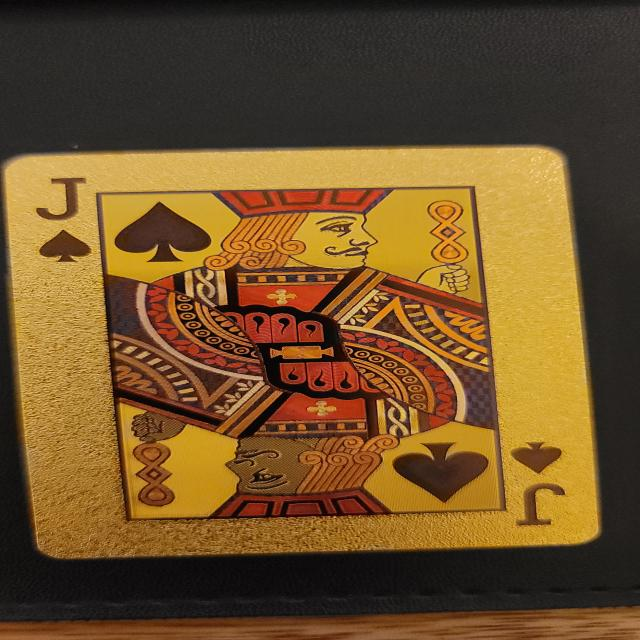Jack of spades: (2, 146, 601, 560)
